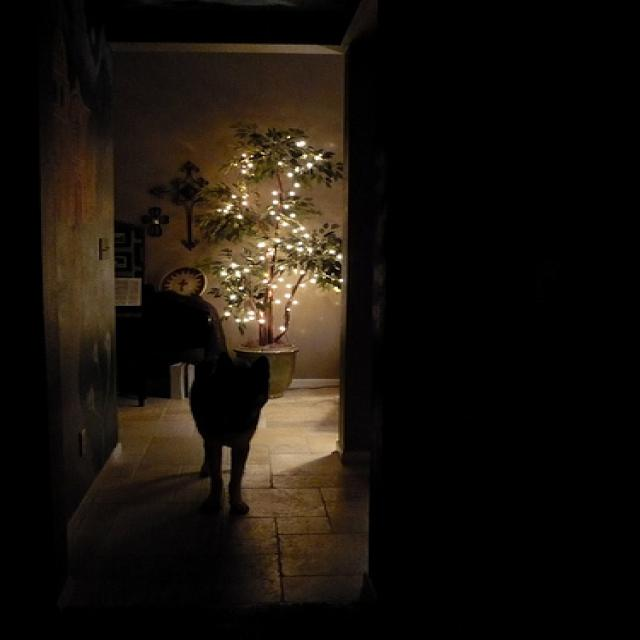dog: (118, 275, 326, 515)
